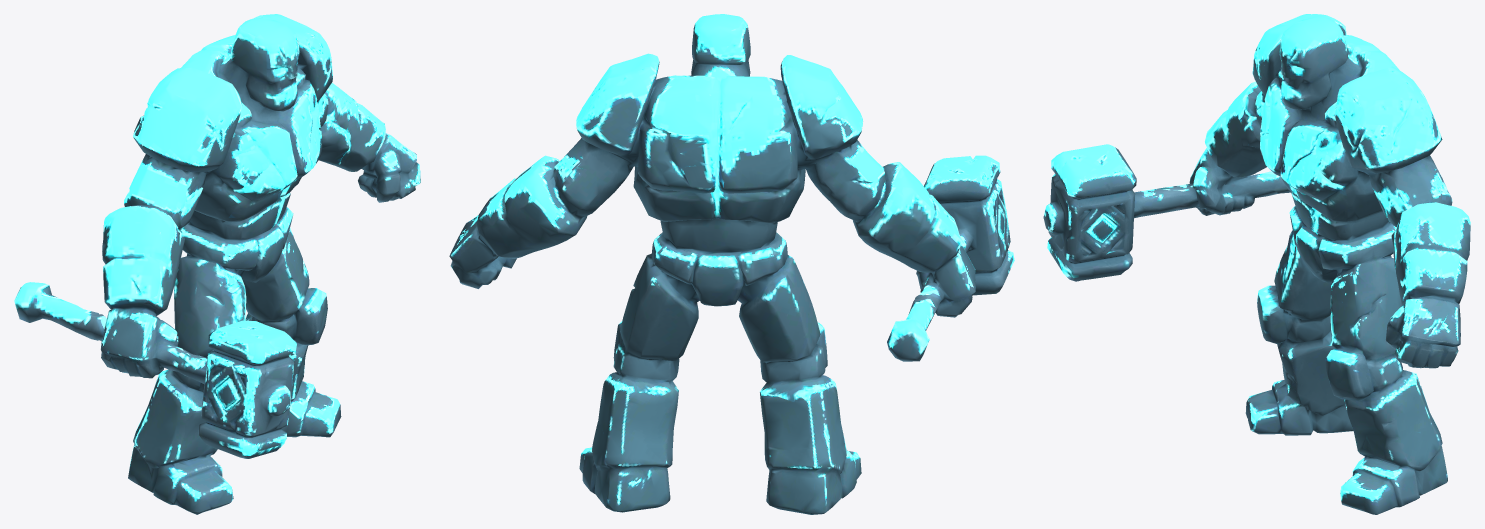
The model's file is source.glb.
3 renders of one model, left to right at view 1: azimuth 30°, elevation 25°; view 2: azimuth 150°, elevation 25°; view 3: azimuth 270°, elevation 25°, orthographic. The views are drawn at different scales.
Visible parts, largest first — view 1: tripo_node_cbfedd21-c1b1-4588-95fb-ab1ce3f905fd; view 2: tripo_node_cbfedd21-c1b1-4588-95fb-ab1ce3f905fd; view 3: tripo_node_cbfedd21-c1b1-4588-95fb-ab1ce3f905fd.
Part boxes in pixels (bbox=[...]): tripo_node_cbfedd21-c1b1-4588-95fb-ab1ce3f905fd: bbox=[14, 14, 420, 514]; tripo_node_cbfedd21-c1b1-4588-95fb-ab1ce3f905fd: bbox=[449, 14, 1014, 514]; tripo_node_cbfedd21-c1b1-4588-95fb-ab1ce3f905fd: bbox=[1043, 14, 1470, 514].
Bounding box in the file's own units: 1.16 × 1.15 × 1.01.
Materials: 1 (1 with a texture image).
